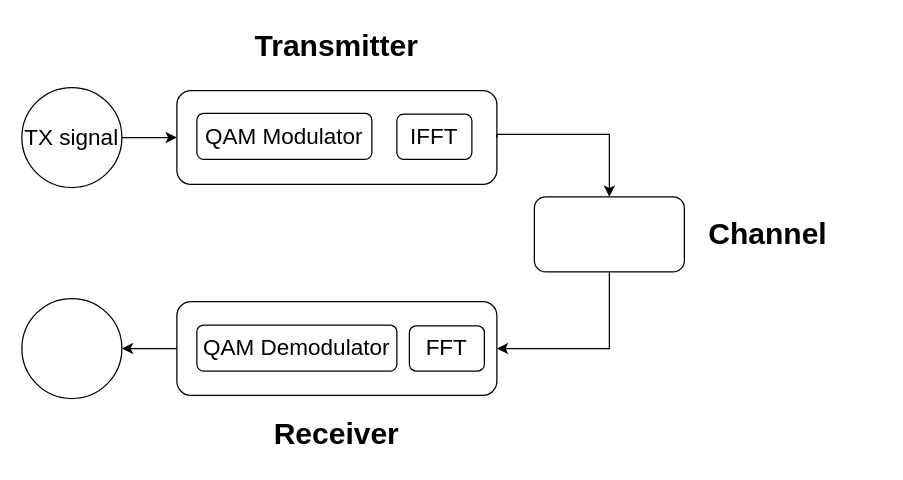
Image size: 903x480. Some labels were removed from this diagram. The centre of each missing label's shape, as x and y in pixels:
"AWGN" goes at [608,234].
"RX signal" goes at [71,347].
